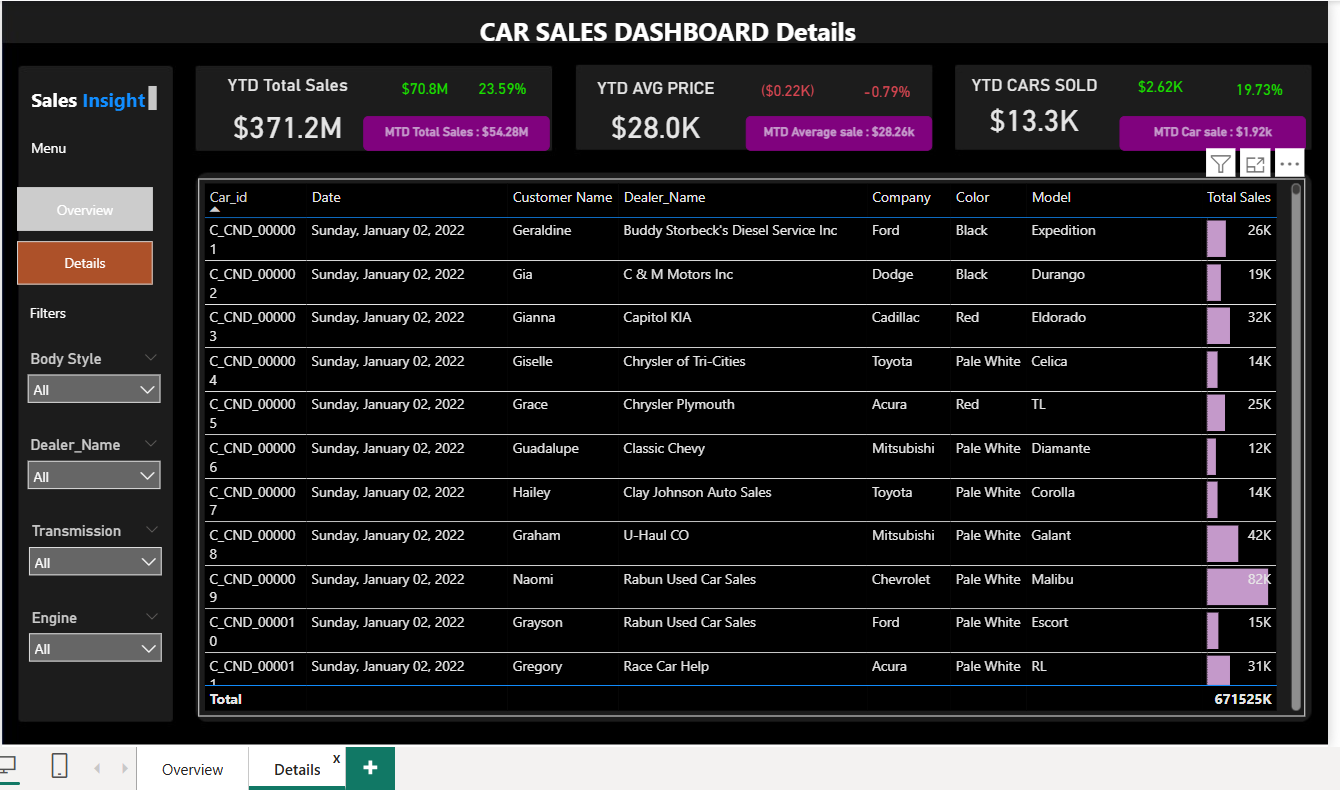

What the dashboard file says about the page in this screenshot:
{"tool":"powerbi","page":{"name":"Details","canvas":[1280,720],"ordinal":1},"visuals":[{"type":"card","title":"YTD Total Sales","fields":{"Values":["car_data.YTD Sales"]},"box":[189.4,71.4,172.9,79.6],"z":0},{"type":"card","title":"YTD AVG PRICE","fields":{"Values":["car_data.YTD Avg Price"]},"box":[544.4,73.8,174,75.1],"z":1000},{"type":"card","title":"YTD CARS SOLD","fields":{"Values":["car_data.YTD Cars Sold"]},"box":[916.1,71.3,161.4,66.3],"z":2000},{"type":"card","fields":{"Values":["car_data.Sales Difference"]},"box":[361.7,67.6,92.6,37.5],"z":3000},{"type":"card","fields":{"Values":["car_data.YOY Growth Sales"]},"box":[436.8,67.6,92.6,37.5],"z":4000},{"type":"card","fields":{"Values":["car_data.MTD KPI"]},"box":[349.2,111.4,180.2,33.8],"z":5000},{"type":"card","fields":{"Values":["car_data.Avg Diff"]},"box":[718.3,71.3,81.3,33.8],"z":6000},{"type":"card","fields":{"Values":["car_data.YOY Aerage diff"]},"box":[808.4,73.8,91.4,31.3],"z":7000},{"type":"card","fields":{"Values":["car_data.Cars Difference"]},"box":[1077.5,67.6,81.3,33.8],"z":8000},{"type":"card","fields":{"Values":["car_data.YOY Cars growth"]},"box":[1167.6,71.3,91.4,31.3],"z":9000},{"type":"card","fields":{"Values":["car_data.MTD average KPI"]},"box":[718.3,111.4,180.2,33.8],"z":10000},{"type":"card","fields":{"Values":["car_data.MTD Car KPI"]},"box":[1078.8,111.4,180.2,33.8],"z":11000},{"type":"textbox","box":[456,8.4,436.7,48.3],"z":17000},{"type":"slicer","fields":{"Values":["car_data.Body Style"]},"box":[14.5,331.8,148.4,83.2],"z":18000},{"type":"slicer","fields":{"Values":["car_data.Dealer_Name"]},"box":[14.5,415,148.4,83.2],"z":19000},{"type":"slicer","fields":{"Values":["car_data.Transmission"]},"box":[15.7,498.3,148.4,83.2],"z":20000},{"type":"slicer","fields":{"Values":["car_data.Engine"]},"box":[15.7,581.5,148.4,83.2],"z":21000},{"type":"textbox","box":[21.7,287.1,68.8,33.8],"z":22000},{"type":"tableEx","fields":{"Values":["car_data.Car_id","car_data.Date","car_data.Customer Name","car_data.Dealer_Name","car_data.Company","car_data.Color","car_data.Model","Sum(car_data.Price ($))"]},"box":[189.4,171.3,1068.9,518.8],"z":22001},{"type":"pageNavigator","box":[14.5,179.8,131.5,94.1],"z":22002},{"type":"textbox","box":[22.9,127.9,83.2,32.6],"z":22003},{"type":"textbox","box":[22.9,77.2,131.5,33.8],"z":22004}]}

Visuals, with their boxes on the page's 1280x720 design canvas (x1, y1, x2, y2). These are canvas units, not pixel positions in the 1340x790 screenshot, which may show the page scaled, cropped or inside an application window:
"YTD Total Sales" card: region(189, 71, 362, 151)
"YTD AVG PRICE" card: region(544, 74, 718, 149)
"YTD CARS SOLD" card: region(916, 71, 1078, 138)
card - car_data.Sales Difference: region(362, 68, 454, 105)
card - car_data.YOY Growth Sales: region(437, 68, 529, 105)
card - car_data.MTD KPI: region(349, 111, 529, 145)
card - car_data.Avg Diff: region(718, 71, 800, 105)
card - car_data.YOY Aerage diff: region(808, 74, 900, 105)
card - car_data.Cars Difference: region(1078, 68, 1159, 101)
card - car_data.YOY Cars growth: region(1168, 71, 1259, 103)
card - car_data.MTD average KPI: region(718, 111, 898, 145)
card - car_data.MTD Car KPI: region(1079, 111, 1259, 145)
textbox: region(456, 8, 893, 57)
slicer - car_data.Body Style: region(14, 332, 163, 415)
slicer - car_data.Dealer_Name: region(14, 415, 163, 498)
slicer - car_data.Transmission: region(16, 498, 164, 582)
slicer - car_data.Engine: region(16, 582, 164, 665)
textbox: region(22, 287, 90, 321)
tableEx - car_data.Car_id x car_data.Date: region(189, 171, 1258, 690)
pageNavigator: region(14, 180, 146, 274)
textbox: region(23, 128, 106, 160)
textbox: region(23, 77, 154, 111)
